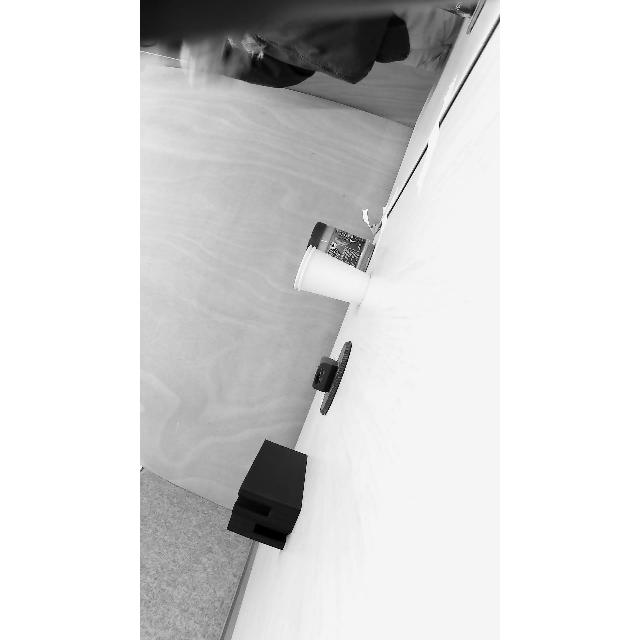targets: (227, 441, 311, 554), (288, 248, 378, 302), (307, 216, 378, 274), (310, 334, 360, 416)
